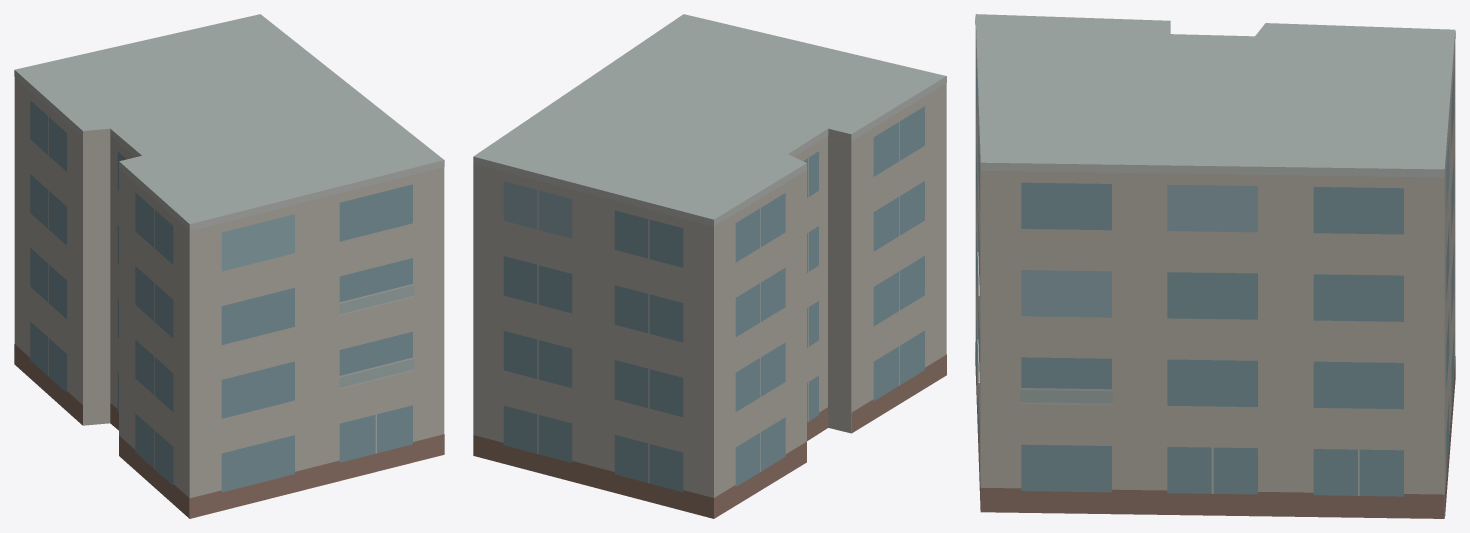
The model's file is survey-upis-32543093.glb.
3 renders of one model, left to right at view 1: azimuth 30°, elevation 25°; view 2: azimuth 150°, elevation 25°; view 3: azimuth 270°, elevation 25°, orthographic. The views are drawn at different scales.
Visible parts, largest first — view 1: survey-upis-32543093.tmp; view 2: survey-upis-32543093.tmp; view 3: survey-upis-32543093.tmp.
Part boxes in pixels (<box>): survey-upis-32543093.tmp: <box>14,14,444,518</box>; survey-upis-32543093.tmp: <box>473,14,946,518</box>; survey-upis-32543093.tmp: <box>975,14,1455,518</box>.
Size of the model in its own units: 10.02 by 10.5 by 13.08.
